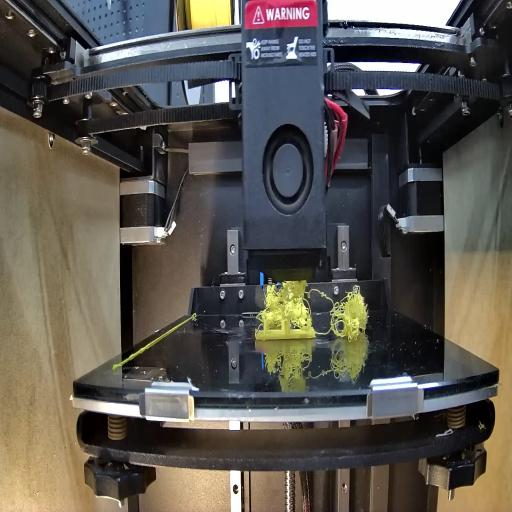spaghetti: (322, 280, 377, 342), (257, 277, 318, 329)
